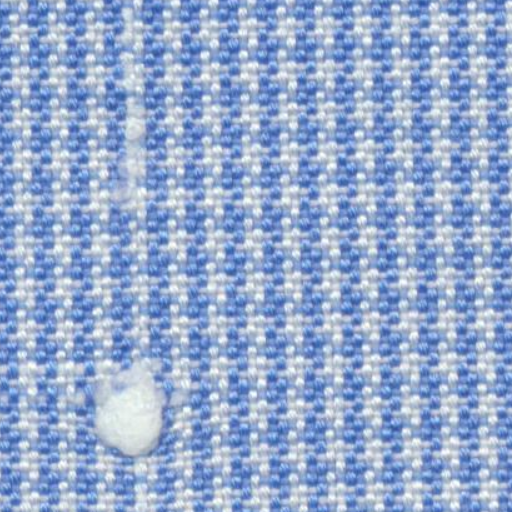MianQiu: (72, 350, 192, 456)
